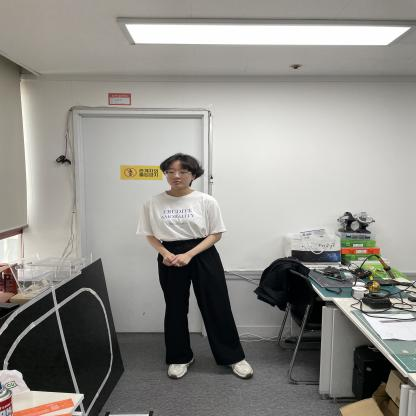normal: (134, 152, 256, 379)
